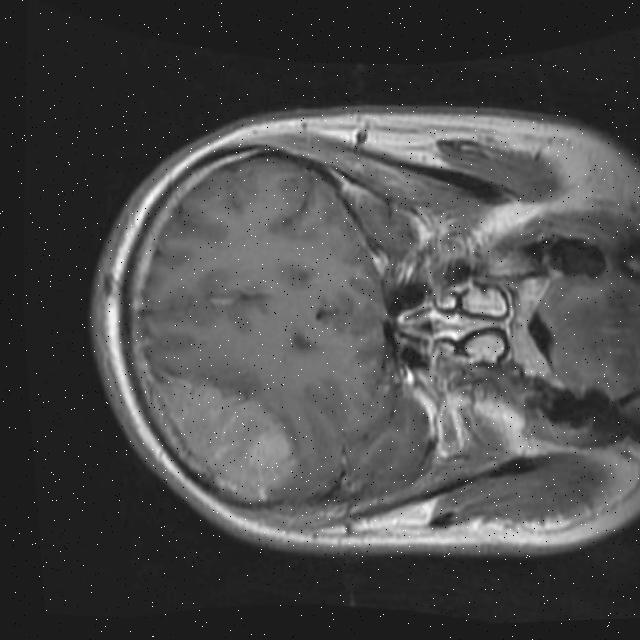Meningioma: (141, 366, 307, 508)
